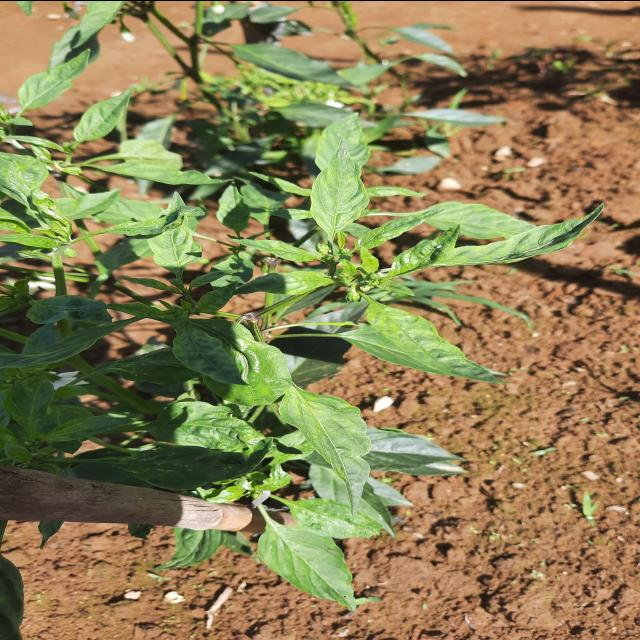thrips: (286, 378, 391, 502), (306, 143, 372, 245), (376, 222, 466, 282), (175, 328, 245, 388)
